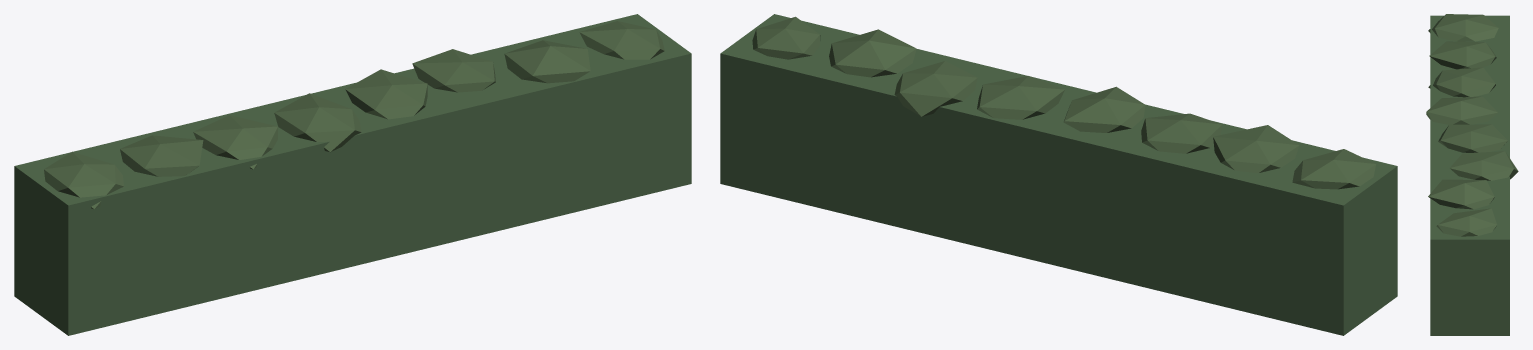
The model's file is hedge.glb.
3 renders of one model, left to right at view 1: azimuth 30°, elevation 25°; view 2: azimuth 150°, elevation 25°; view 3: azimuth 270°, elevation 25°, orthographic. The views are drawn at different scales.
Parts seen in each view (by area): view 1: hedge; view 2: hedge; view 3: hedge.
Part boxes in pixels (x1,y1,x2,y2): hedge: (14,14,691,335); hedge: (720,14,1397,335); hedge: (1426,14,1518,335).
Size of the model in its own units: 4 by 0.9179 by 0.697.
